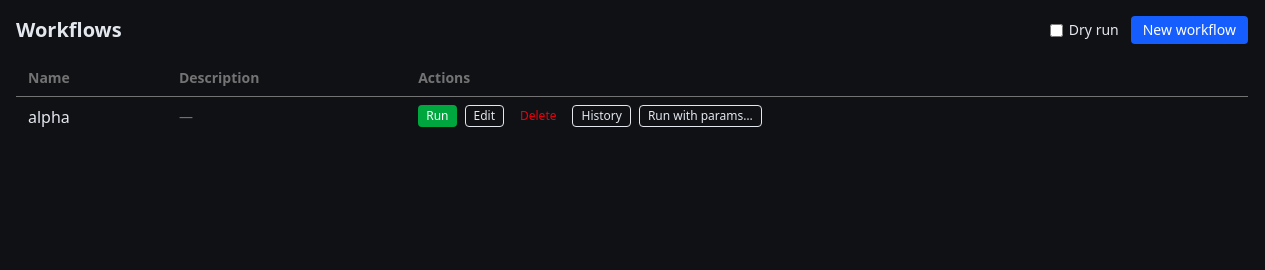
Test: Workflows page — run-history drawer › expanding a workflow row fetches and renders the last N runs
Expected: the text "alpha" is shown, [16,96,167,137]
Click the button with aria-label "show history for alpha" at (602, 116), box [572,105,631,127]
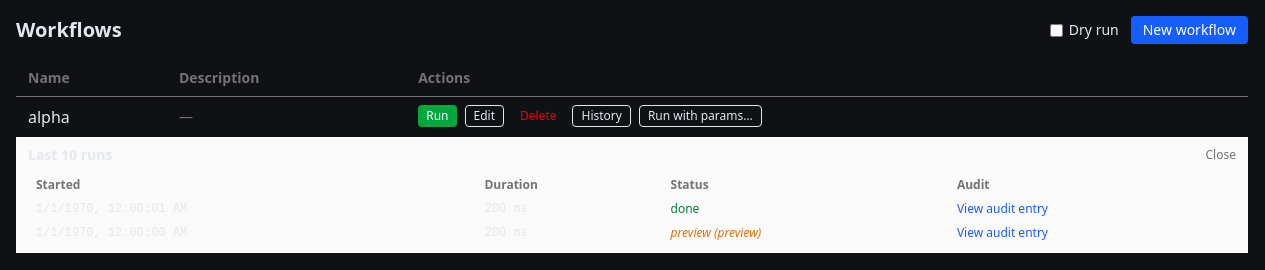
Expected: the text "done" is shown, [662,197,949,221]
Expected: the text "preview (preview)" is shown, [662,221,949,245]
